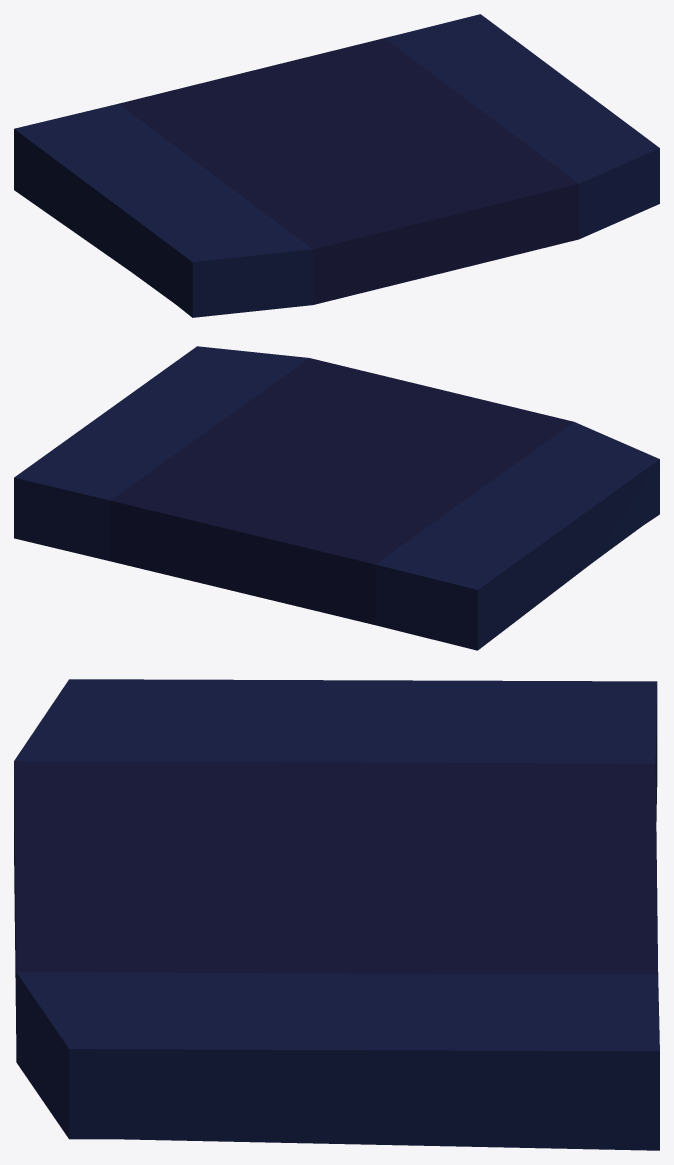
The model's file is topladder.fbx.
The picture shows the model from 3 angles, top to bottom: view 1: azimuth 30°, elevation 25°; view 2: azimuth 150°, elevation 25°; view 3: azimuth 270°, elevation 25°; orthographic projection. The views are drawn at different scales.
Visible parts, largest first — view 1: Cube.030; view 2: Cube.030; view 3: Cube.030.
Part boxes in pixels (box(x1,y1,x2,y2)): Cube.030: box(14, 14, 659, 317); Cube.030: box(14, 346, 659, 650); Cube.030: box(14, 679, 659, 1150).
Bounding box in the file's own units: 730 × 90.97 × 535.
